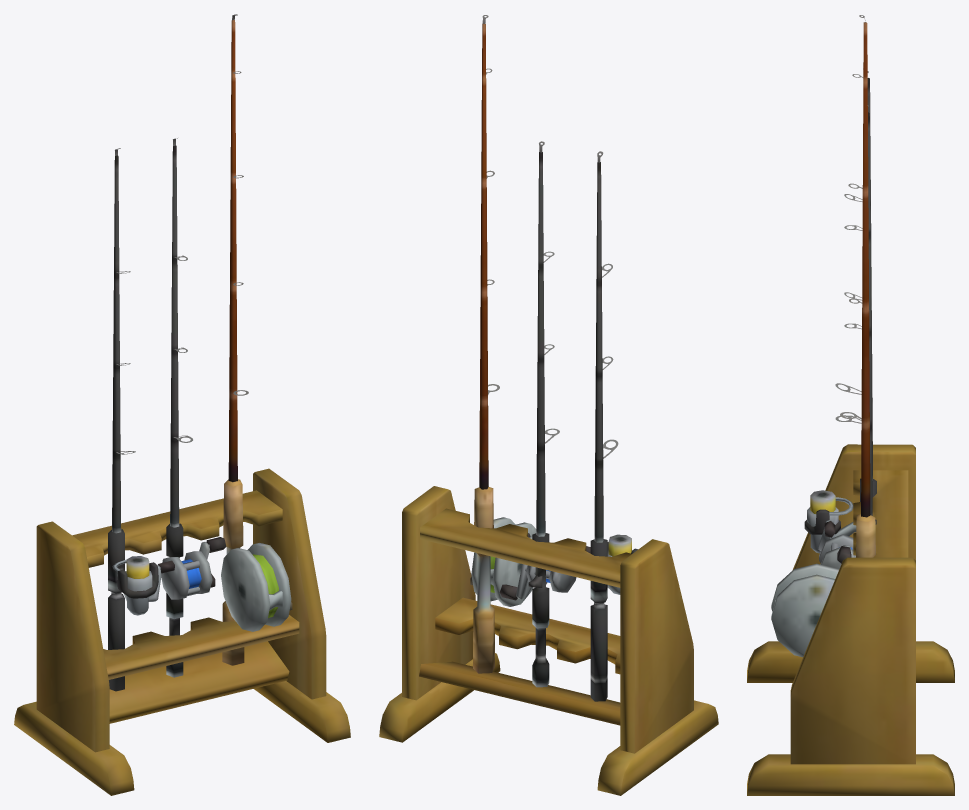
Rendered from rod-stand.glb.
The picture shows the model from 3 angles, left to right: view 1: azimuth 30°, elevation 25°; view 2: azimuth 150°, elevation 25°; view 3: azimuth 270°, elevation 25°; orthographic projection. The views are drawn at different scales.
Bounding box in the file's own units: 8.3 × 23.13 × 5.83.
1 material, 1 textured.
